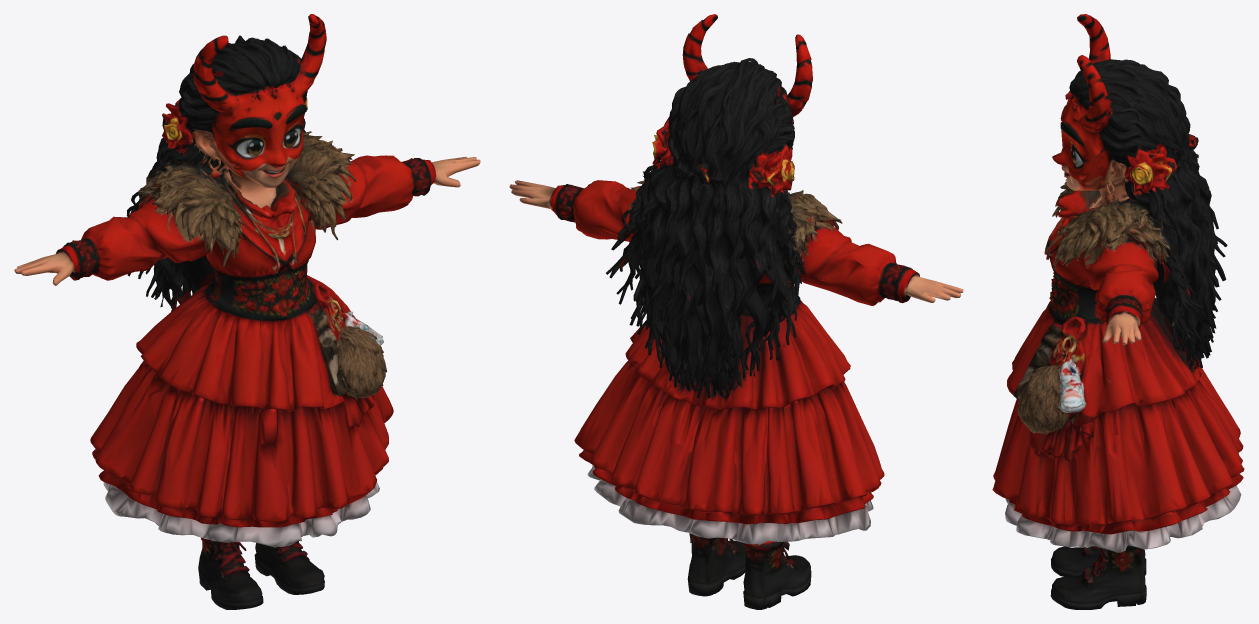
Rendered from chica_demonio.glb.
The picture shows the model from 3 angles, left to right: view 1: azimuth 30°, elevation 25°; view 2: azimuth 150°, elevation 25°; view 3: azimuth 270°, elevation 25°; orthographic projection. The views are drawn at different scales.
Visible parts, largest first — view 1: chica_demonio; view 2: chica_demonio; view 3: chica_demonio.
Part boxes in pixels (<box>): chica_demonio: <box>14,14,480,609</box>; chica_demonio: <box>509,14,963,609</box>; chica_demonio: <box>992,14,1244,609</box>.
Size of what is drawn, in the model's own units: 1.45 by 1.7 by 0.7042.
Materials: 1 (1 with a texture image).
